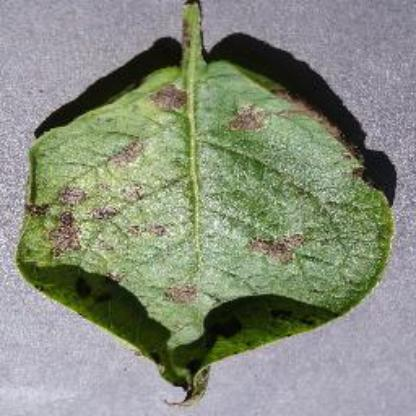Early-Blight: (16, 0, 394, 406)
